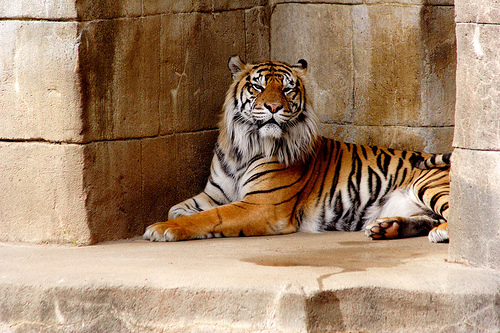Tigre: (198, 46, 456, 267)
